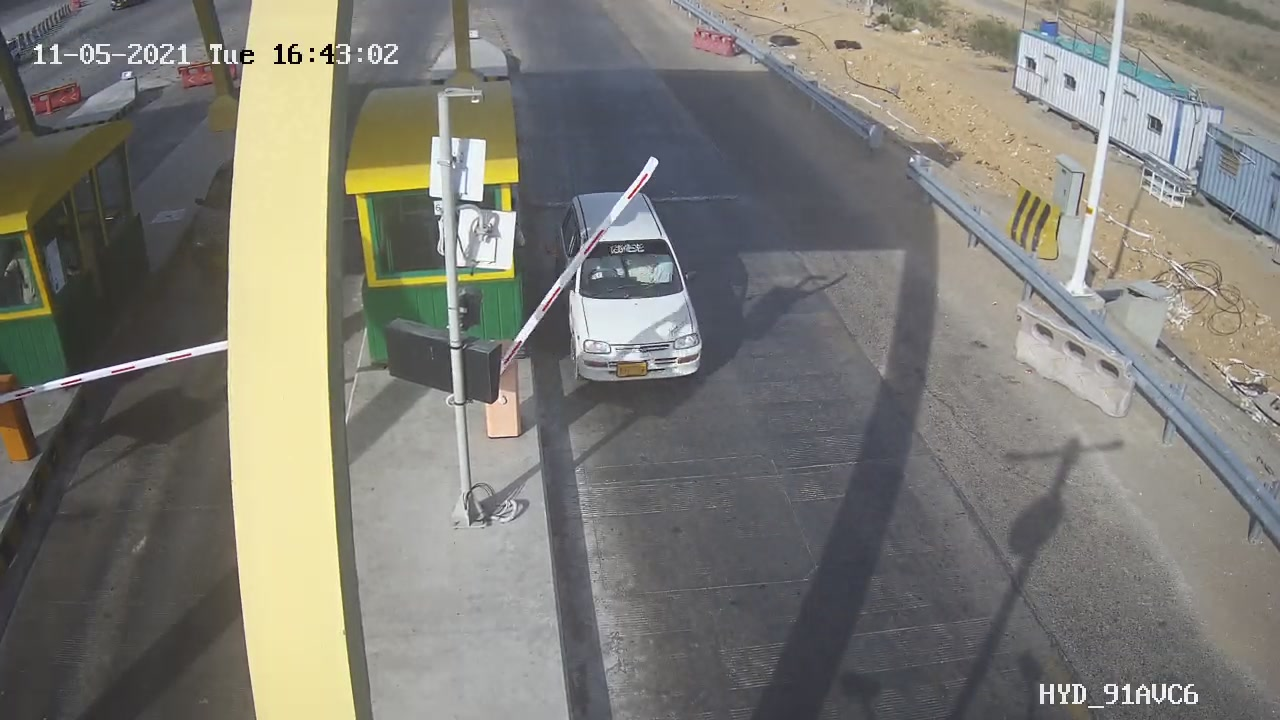F1: (535, 178, 726, 400)
